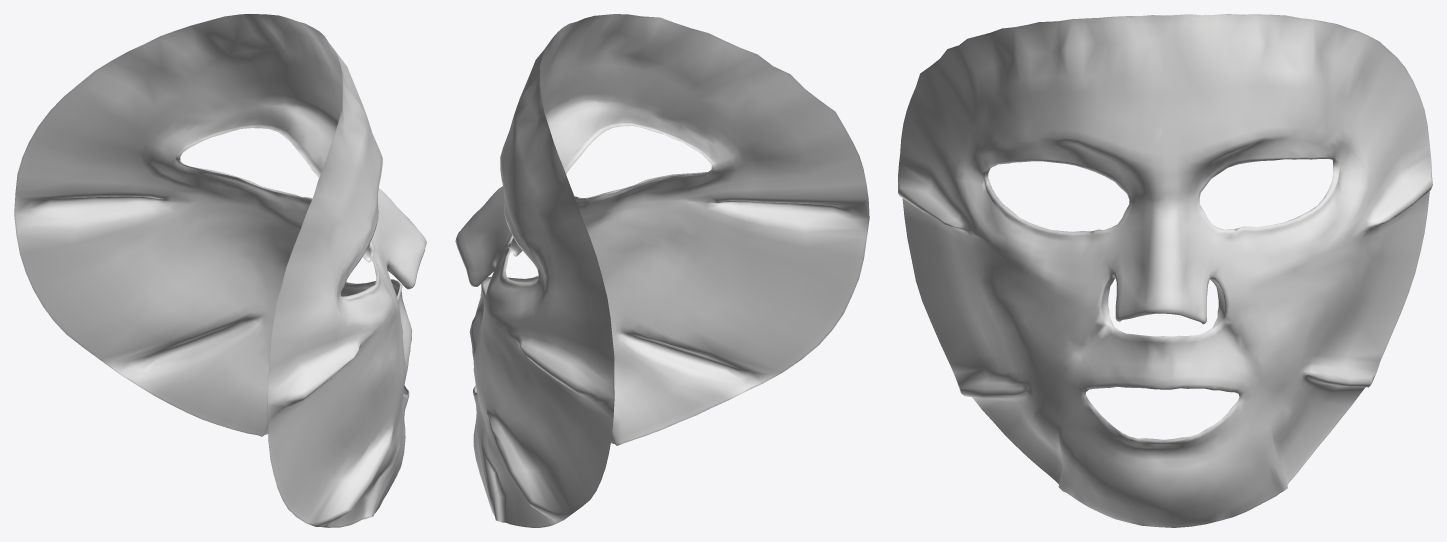
File: face mask 3d model.glb
3 renders of one model, left to right at view 1: azimuth 30°, elevation 25°; view 2: azimuth 150°, elevation 25°; view 3: azimuth 270°, elevation 25°, orthographic. The views are drawn at different scales.
Parts seen in each view (by area): view 1: tripo_node_3df05d11-c085-440a-979d-840ec7e127f7; view 2: tripo_node_3df05d11-c085-440a-979d-840ec7e127f7; view 3: tripo_node_3df05d11-c085-440a-979d-840ec7e127f7.
Part boxes in pixels (x1,y1,x2,y2): tripo_node_3df05d11-c085-440a-979d-840ec7e127f7: (14,14,426,527); tripo_node_3df05d11-c085-440a-979d-840ec7e127f7: (455,14,869,527); tripo_node_3df05d11-c085-440a-979d-840ec7e127f7: (898,14,1432,527).
Size of the model in its own units: 0.6348 by 0.998 by 0.9941.
Materials: 1 (1 with a texture image).
